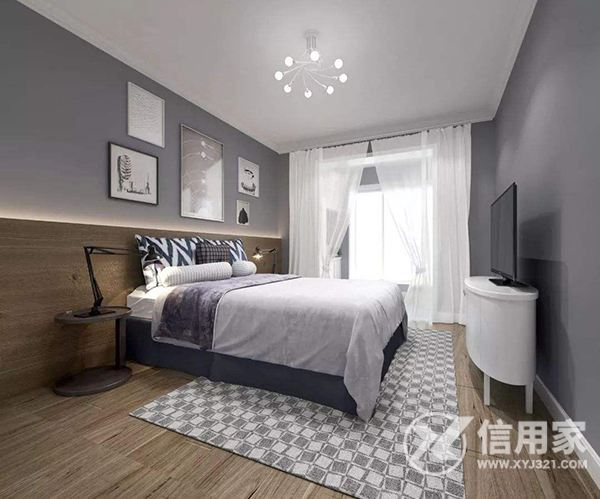床: (123, 267, 400, 398)
枕头: (129, 238, 253, 285)
灯: (271, 26, 349, 110), (79, 237, 137, 312), (248, 246, 284, 275)
